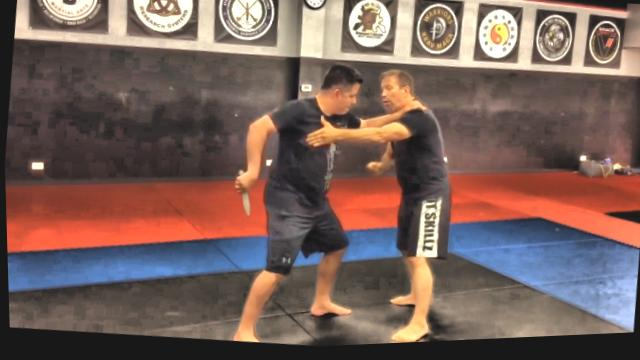knife: (228, 167, 259, 223)
